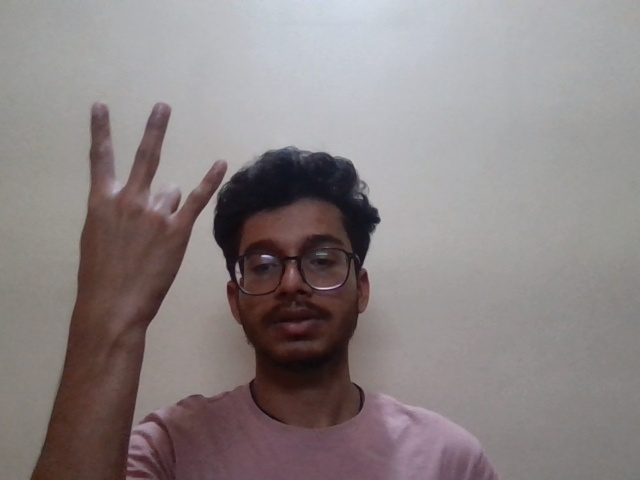why: (67, 95, 234, 332)
